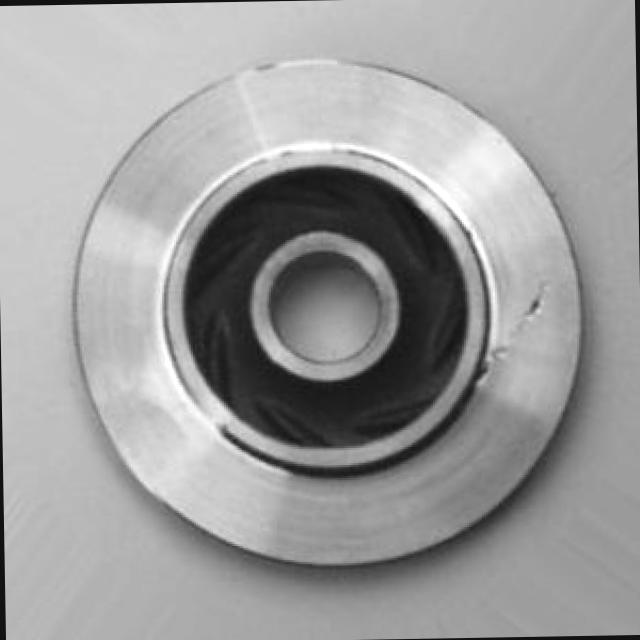Defect: (518, 285, 548, 326)
